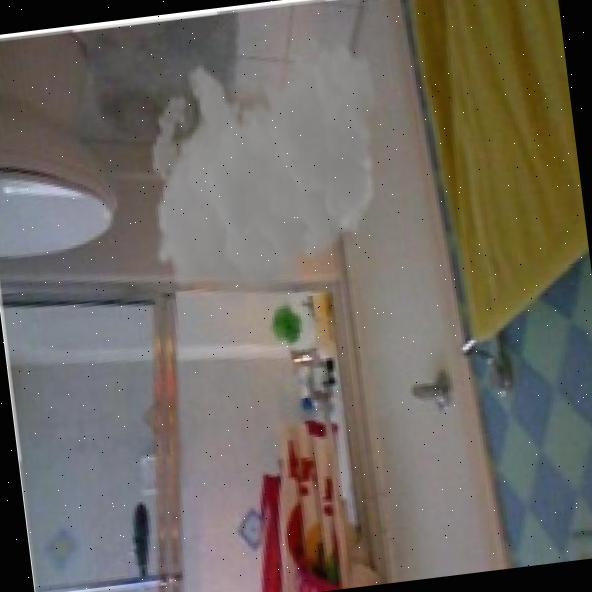smoke: (131, 27, 403, 331)
